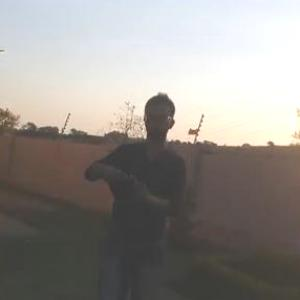follow: (83, 84, 194, 299)
